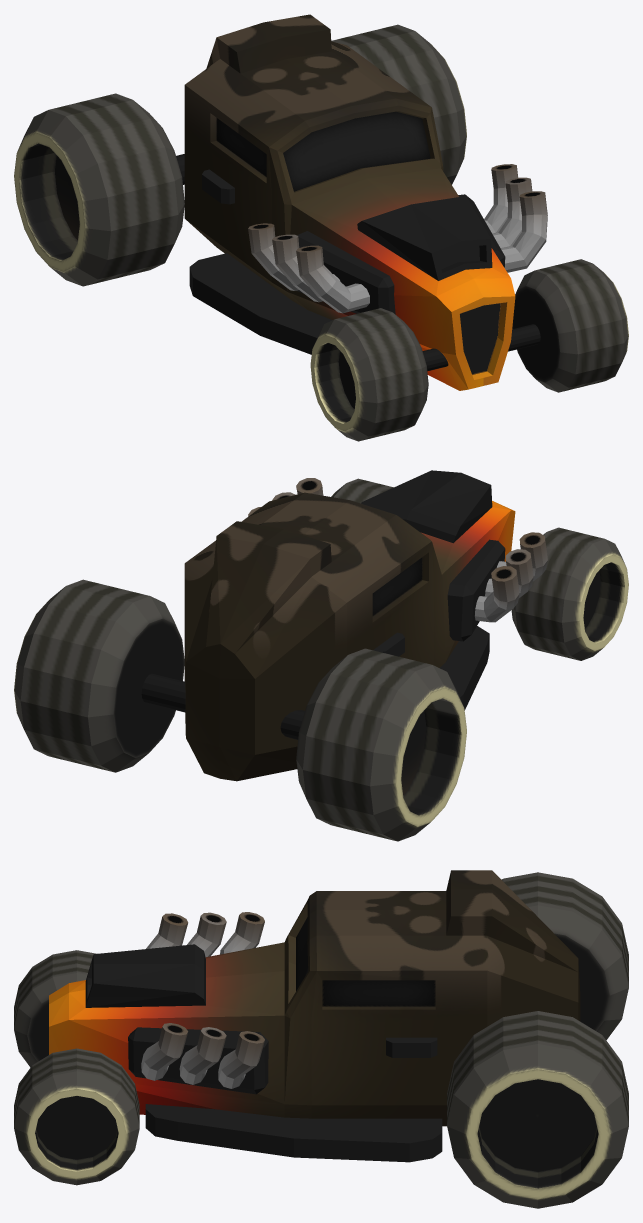
Rendered from Car-6.fbx.
3 views of the same model, one above another, from view 1: azimuth 30°, elevation 25°; view 2: azimuth 150°, elevation 25°; view 3: azimuth 270°, elevation 25° (orthographic).
Parts seen in each view (by area): view 1: Plane.039, Cylinder.236, Cylinder.235, Cylinder.234, Cylinder.237, Cube.202, Cube.203, Plane.032, Plane.033, Plane.034, Plane.037, Plane.036 (+2 smaller); view 2: Plane.039, Cylinder.236, Cylinder.237, Cylinder.235, Cube.203, Cube.202, Plane.036, Plane.037, Plane.032, Cylinder.234; view 3: Plane.039, Cylinder.237, Cylinder.234, Cube.202, Cylinder.236, Cylinder.235, Cube.201, Plane.033, Plane.034, Plane.035, Plane.036, Cube.200 (+2 smaller).
Boxes of the visible parts, x1=… form: Plane.039: x1=184, y1=14, x2=515, y2=390; Cylinder.236: x1=14, y1=93, x2=184, y2=286; Cylinder.235: x1=310, y1=308, x2=448, y2=441; Cylinder.234: x1=508, y1=259, x2=628, y2=392; Cylinder.237: x1=331, y1=24, x2=466, y2=184; Cube.202: x1=189, y1=253, x2=331, y2=354; Cube.203: x1=297, y1=231, x2=395, y2=314; Plane.032: x1=296, y1=245, x2=369, y2=313; Plane.033: x1=501, y1=191, x2=547, y2=272; Plane.034: x1=492, y1=177, x2=532, y2=248; Plane.037: x1=272, y1=234, x2=339, y2=302; Plane.036: x1=248, y1=223, x2=298, y2=290; Plane.039: x1=184, y1=470, x2=515, y2=781; Cylinder.236: x1=280, y1=648, x2=466, y2=841; Cylinder.237: x1=14, y1=579, x2=185, y2=772; Cylinder.235: x1=511, y1=527, x2=628, y2=660; Cube.203: x1=447, y1=539, x2=505, y2=641; Cube.202: x1=439, y1=626, x2=489, y2=710; Plane.036: x1=475, y1=566, x2=519, y2=622; Plane.037: x1=485, y1=549, x2=533, y2=598; Plane.032: x1=496, y1=532, x2=547, y2=581; Cylinder.234: x1=331, y1=478, x2=393, y2=503; Plane.039: x1=49, y1=870, x2=580, y2=1126; Cylinder.237: x1=447, y1=1011, x2=628, y2=1208; Cylinder.234: x1=14, y1=1048, x2=139, y2=1185; Cube.202: x1=145, y1=1104, x2=442, y2=1162; Cylinder.236: x1=501, y1=872, x2=628, y2=1040; Cylinder.235: x1=14, y1=950, x2=96, y2=1067; Cube.201: x1=128, y1=1027, x2=268, y2=1094; Plane.033: x1=141, y1=1023, x2=188, y2=1080; Plane.034: x1=179, y1=1027, x2=226, y2=1084; Plane.035: x1=218, y1=1031, x2=264, y2=1088; Plane.036: x1=220, y1=912, x2=264, y2=954; Cube.200: x1=386, y1=1037, x2=437, y2=1057.
Bounding box in the file's own units: 299 × 175 × 415.
